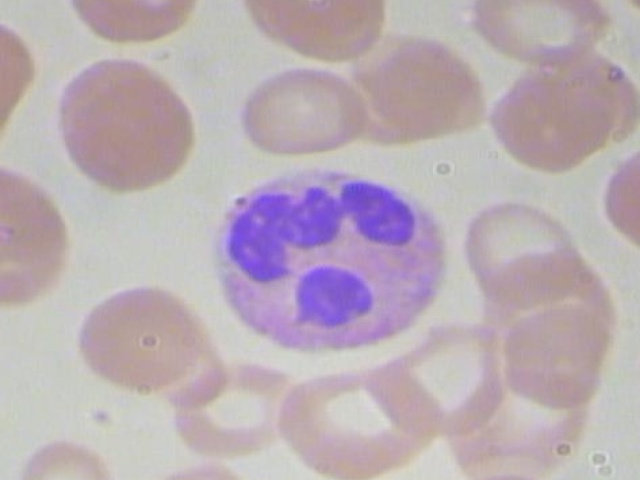RBC: (45, 54, 205, 193), (365, 314, 538, 436), (272, 365, 451, 480), (74, 276, 212, 391), (227, 62, 373, 156), (445, 199, 590, 292), (174, 352, 295, 458), (0, 153, 72, 315), (464, 0, 617, 73), (588, 137, 640, 261), (17, 430, 121, 480), (0, 5, 41, 128)
WBC: (200, 163, 471, 356)
